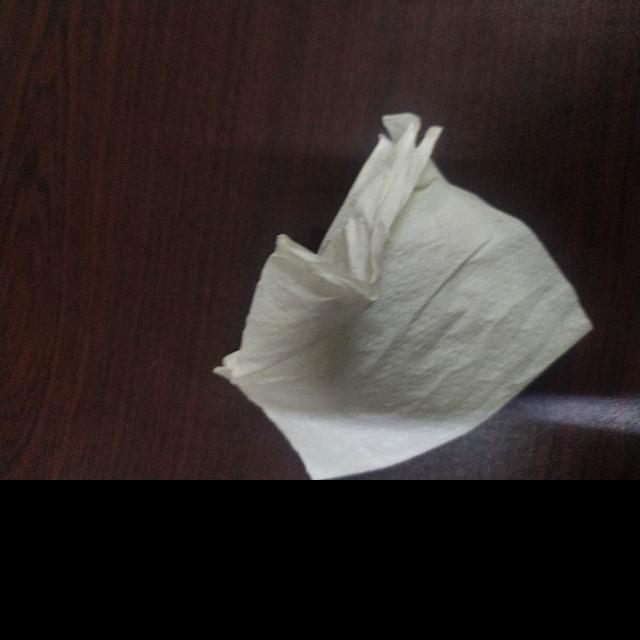kitchen paper: (207, 102, 605, 490)
